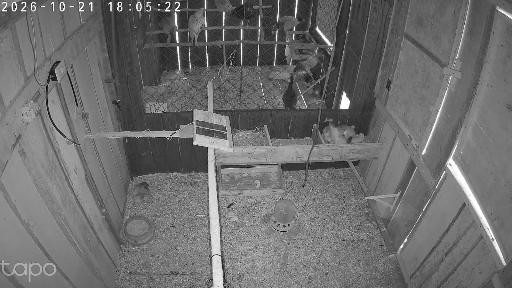frango: (271, 16, 304, 44), (296, 54, 317, 78), (158, 17, 179, 39), (133, 182, 150, 204), (314, 85, 322, 98)
galinha: (324, 118, 354, 142), (233, 1, 258, 27), (282, 75, 297, 109), (261, 12, 279, 33), (214, 0, 233, 15)
galo: (187, 7, 206, 45)
pintinho: (351, 133, 364, 143), (323, 133, 330, 142)
